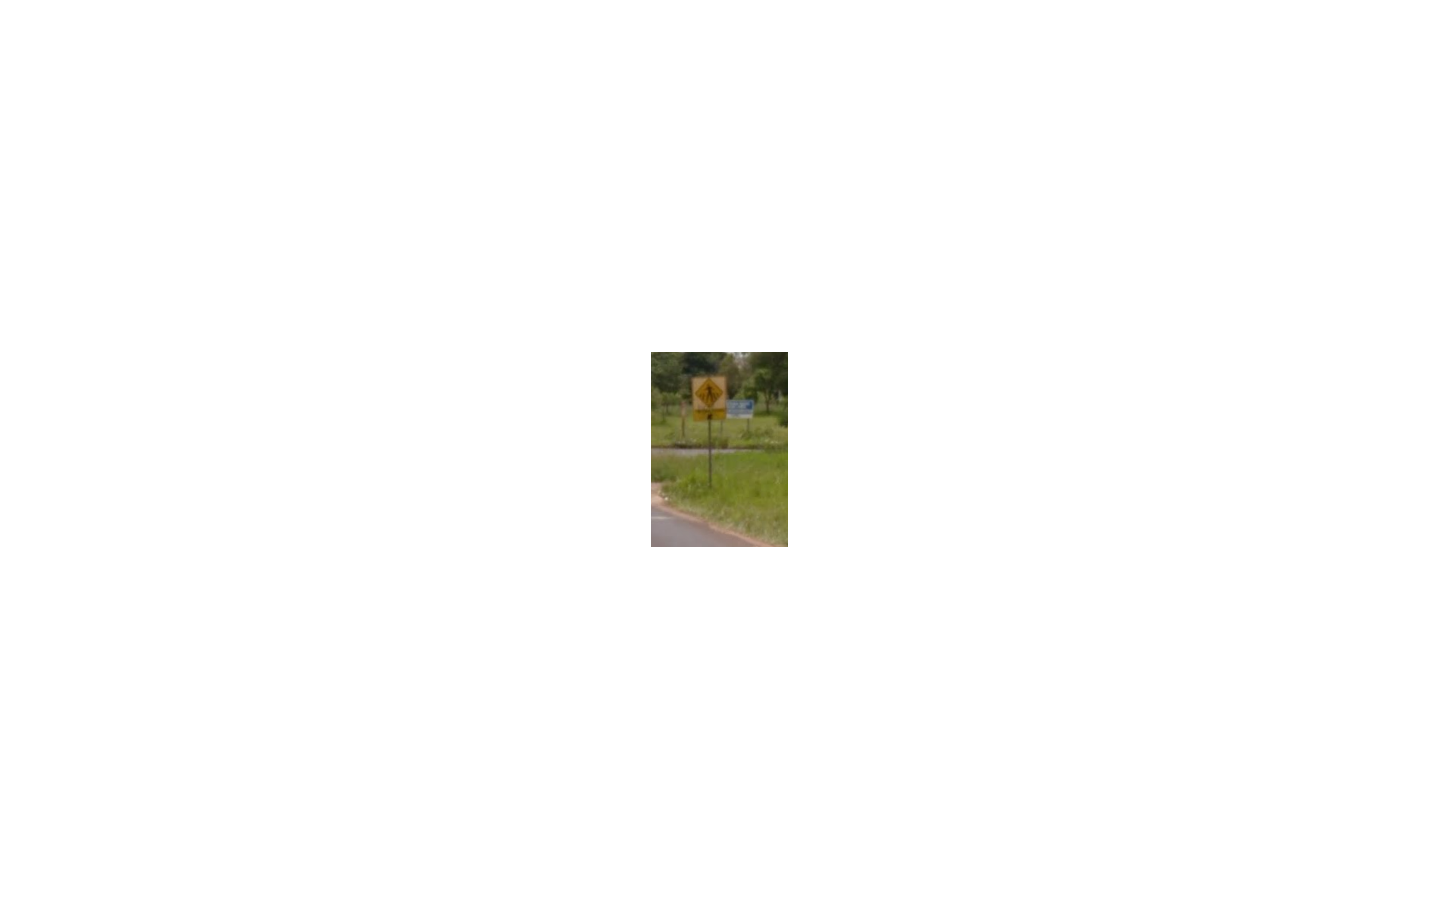telev: (691, 375, 726, 422)
